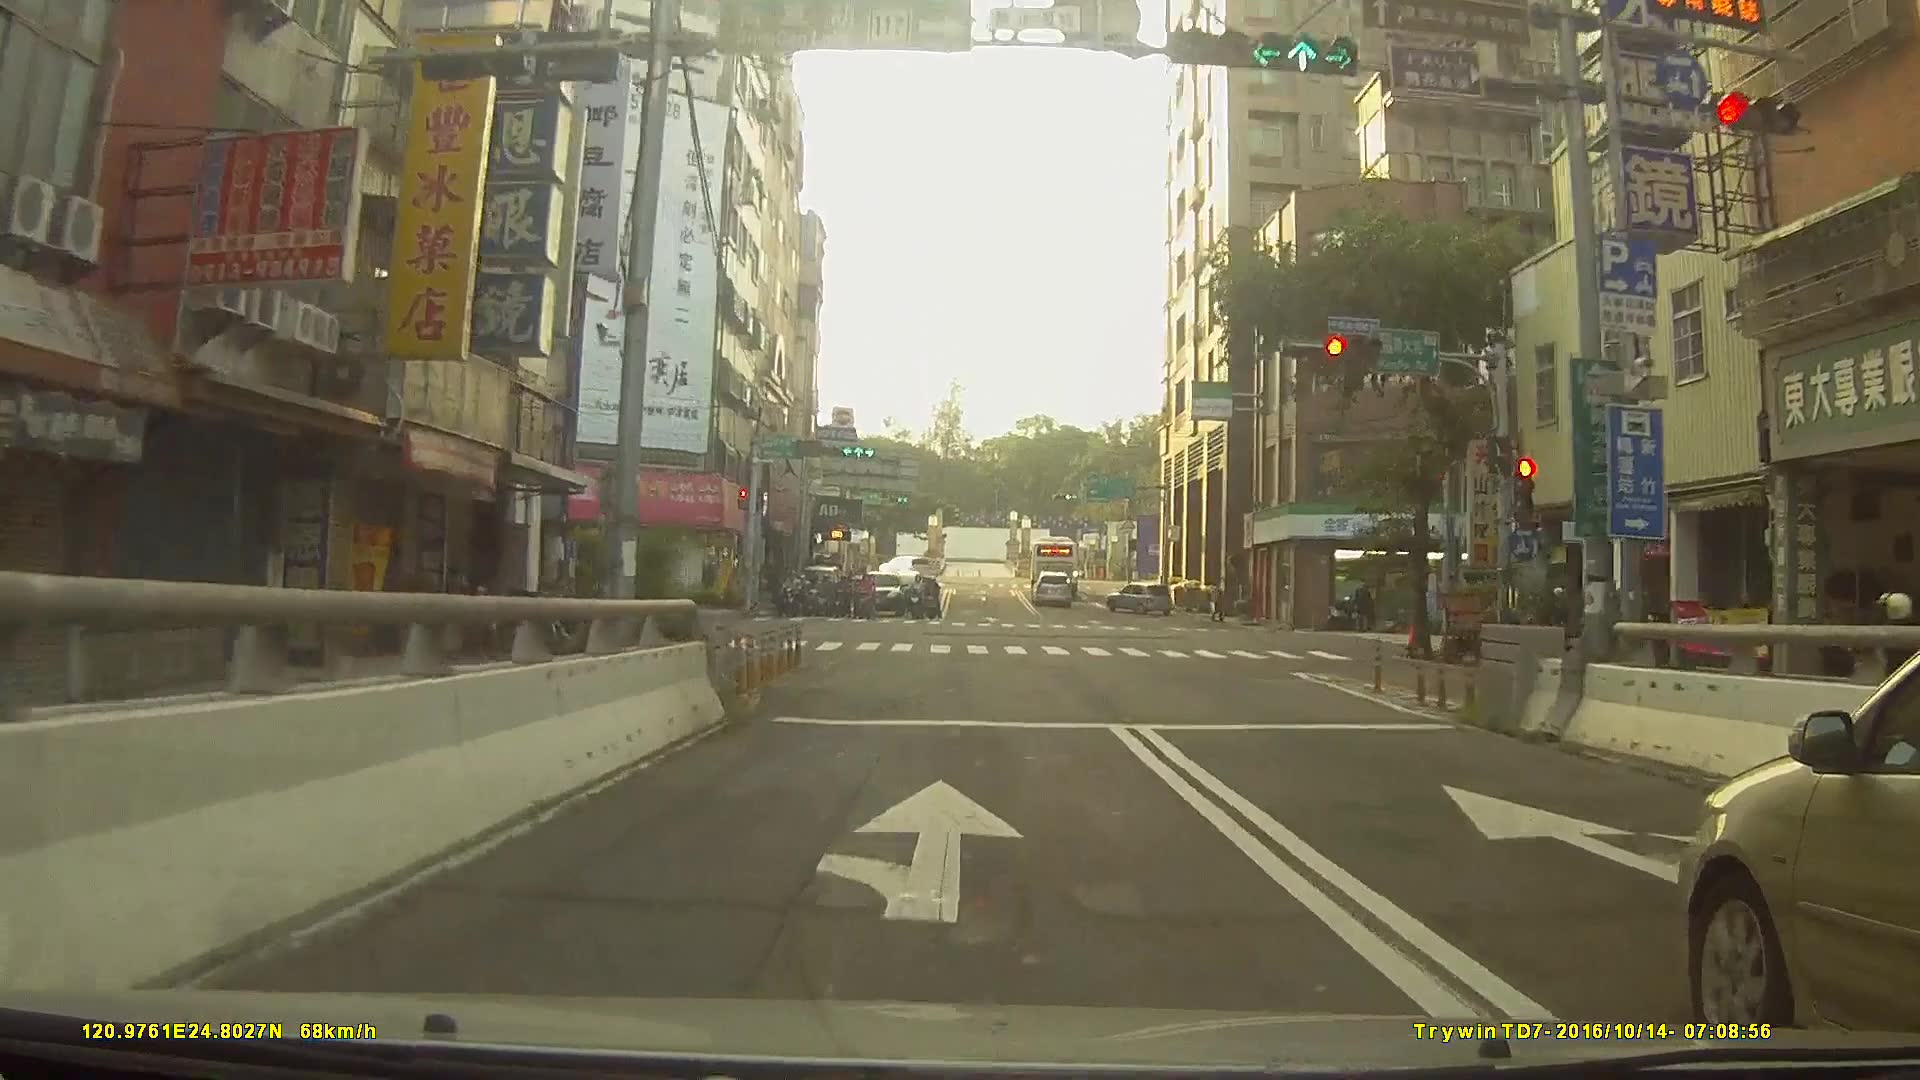pedestrian: (1352, 577, 1377, 632), (1208, 580, 1228, 624)
vehicle: (1679, 643, 1920, 1041), (1026, 534, 1082, 584), (1104, 579, 1176, 615), (856, 569, 907, 618), (872, 550, 932, 578), (1032, 567, 1076, 602)
